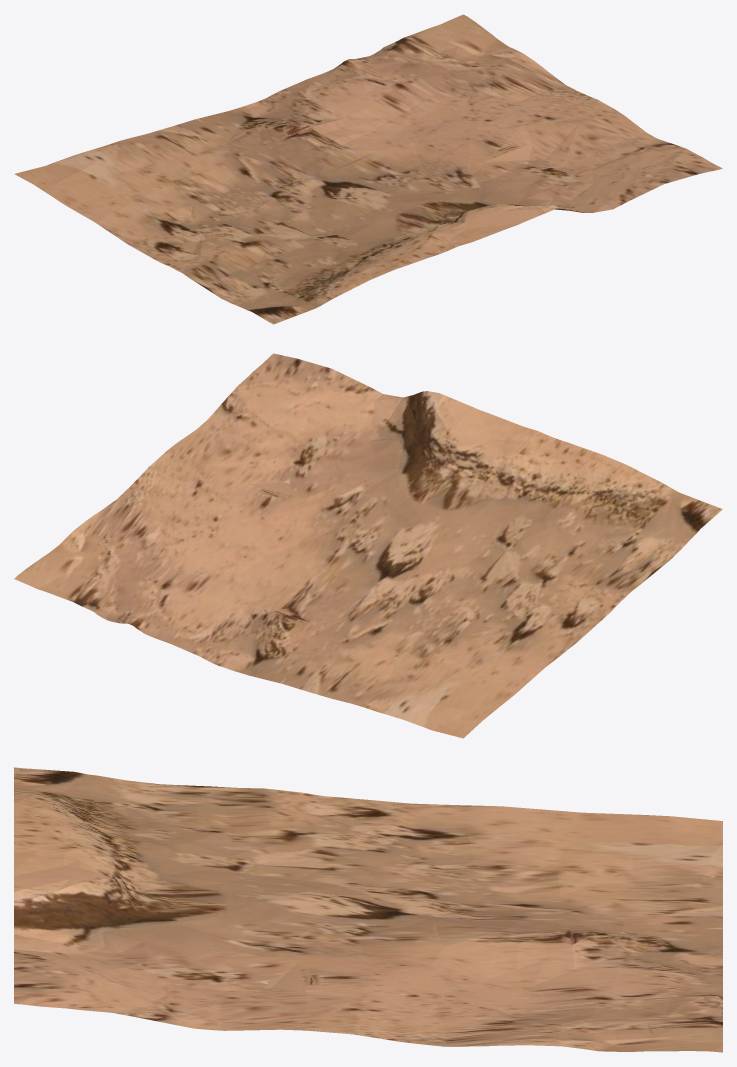
The picture shows the model from 3 angles, top to bottom: view 1: azimuth 30°, elevation 25°; view 2: azimuth 150°, elevation 25°; view 3: azimuth 270°, elevation 25°; orthographic projection. The views are drawn at different scales.
Size of the model in its own units: 2.09 by 0.3832 by 2.09.
Materials: 2 (2 with a texture image).
